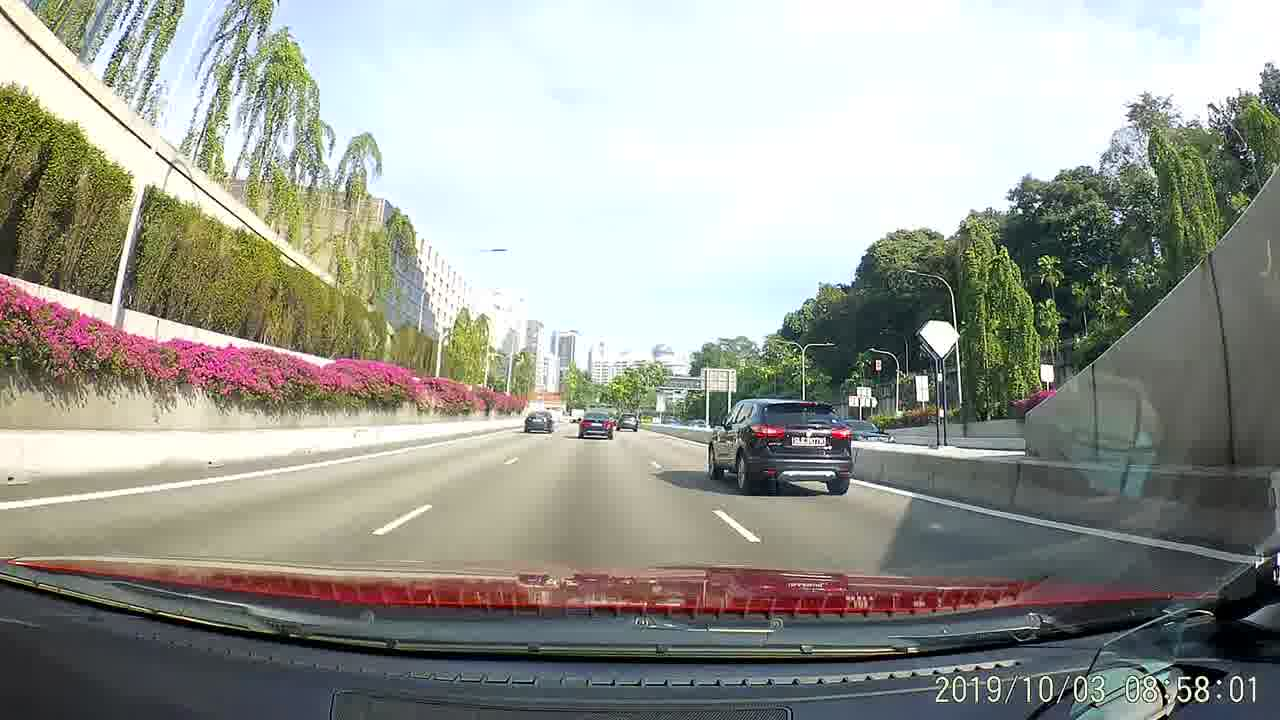car: (706, 393, 855, 498), (845, 417, 899, 444), (578, 410, 614, 443), (524, 407, 556, 434), (615, 411, 640, 430)
